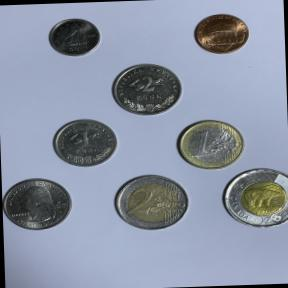1 Euro: (172, 114, 250, 171)
2 Euro: (110, 171, 192, 234)
Canda-10cent-: (45, 15, 103, 58)
Canda-2Dollar-: (218, 166, 288, 232)
Croatia-2Kune-: (106, 60, 190, 118)
US-1cent-: (188, 10, 256, 56)
US-25cent-: (1, 174, 77, 232)
